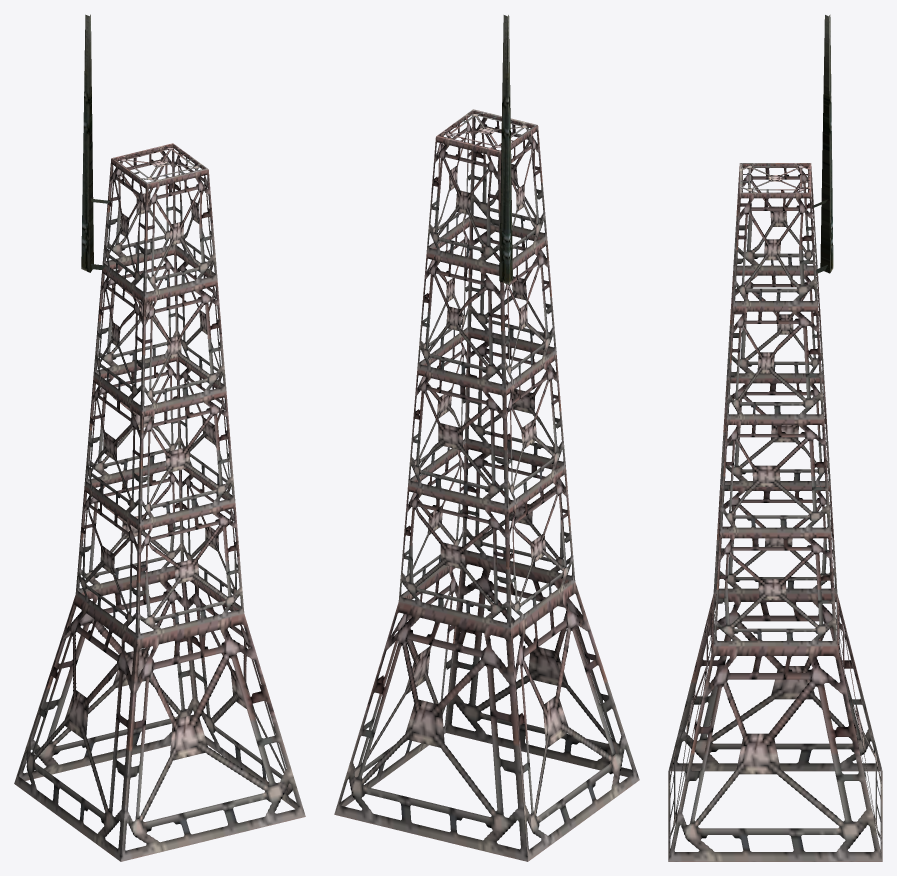
The model's file is M2_RadioMast.glb.
3 renders of one model, left to right at view 1: azimuth 30°, elevation 25°; view 2: azimuth 150°, elevation 25°; view 3: azimuth 270°, elevation 25°, orthographic. The views are drawn at different scales.
Visible parts, largest first — view 1: M2_RADIOMAST; view 2: M2_RADIOMAST; view 3: M2_RADIOMAST.
Boxes of the visible parts, box(x1,y1,x2,y2) form: M2_RADIOMAST: box(14, 14, 305, 861); M2_RADIOMAST: box(334, 15, 639, 861); M2_RADIOMAST: box(668, 14, 882, 861).
Bounding box in the file's own units: 2.74 × 11 × 2.74.
2 materials, 2 textured.
